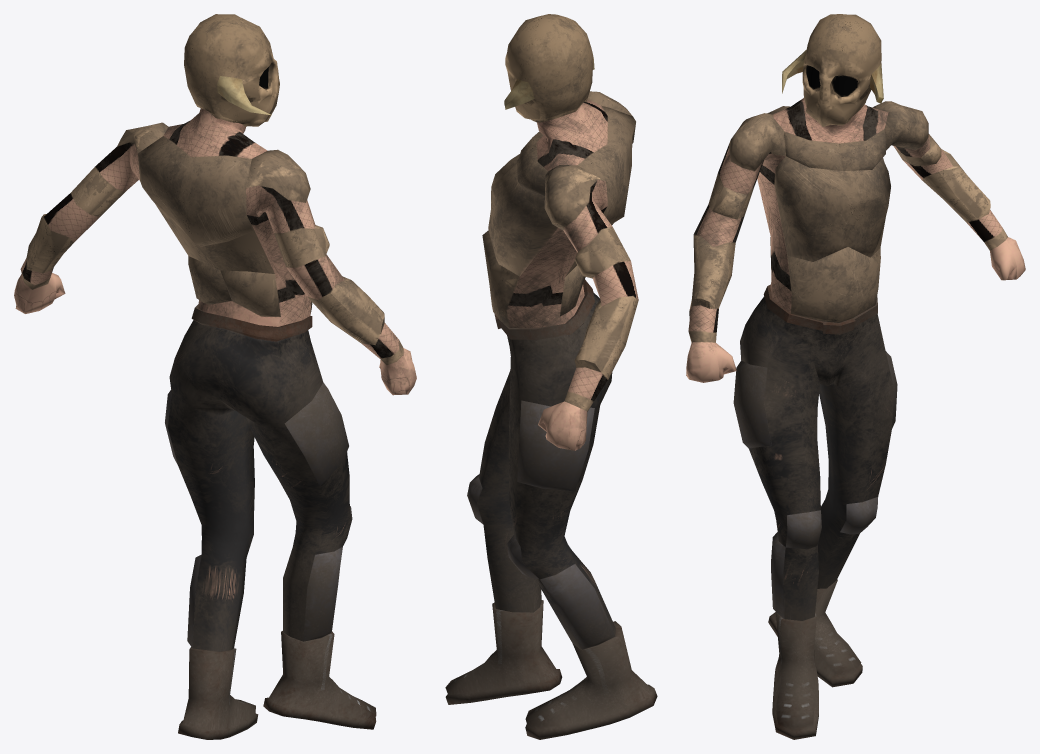
Rendered from Anim_ataque_f1_npc1.0028.obj.
The picture shows the model from 3 angles, left to right: view 1: azimuth 30°, elevation 25°; view 2: azimuth 150°, elevation 25°; view 3: azimuth 270°, elevation 25°; orthographic projection. The views are drawn at different scales.
Parts seen in each view (by area): view 1: NPC2; view 2: NPC2; view 3: NPC2.
Part boxes in pixels (box(x1,y1,x2,y2)): NPC2: box(14, 14, 416, 739); NPC2: box(445, 14, 657, 739); NPC2: box(686, 14, 1025, 739).
Bounding box in the file's own units: 3.61 × 9.65 × 4.45.
